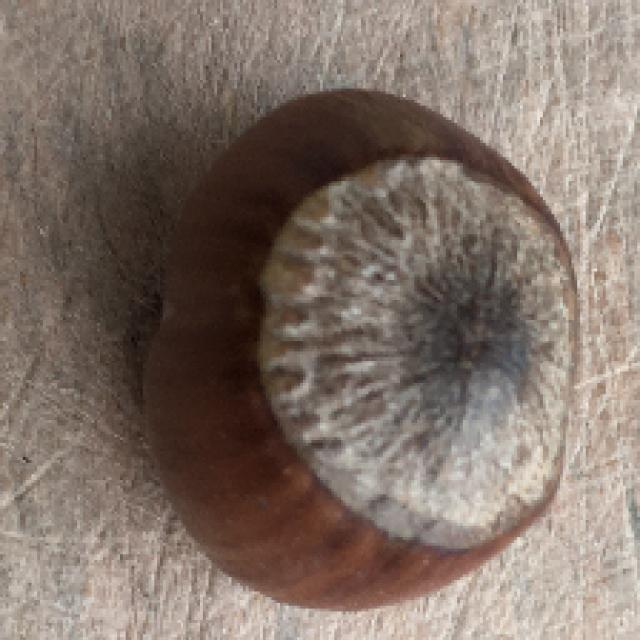damagedHazelnut: (130, 74, 592, 618)
